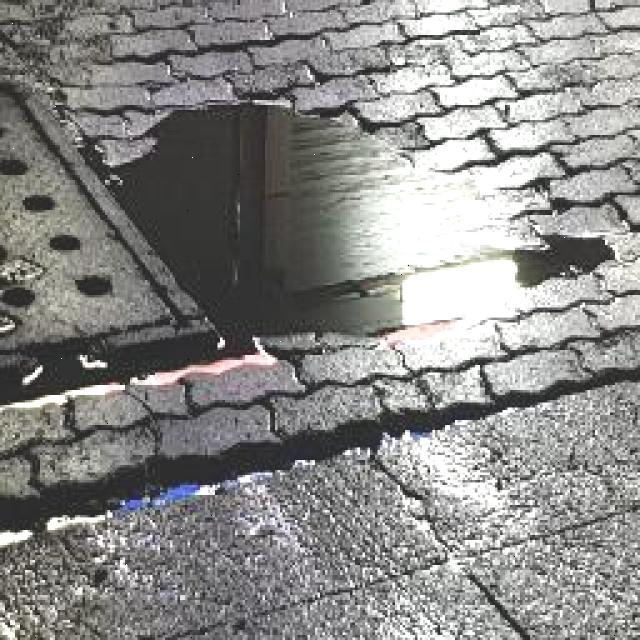stagnation: (112, 99, 574, 337)
